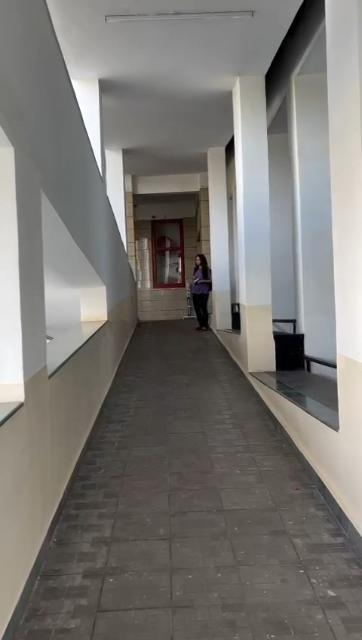floor: (14, 320, 362, 638)
moving-obj: (179, 260, 226, 342)
wall: (1, 289, 144, 639), (41, 2, 108, 285), (0, 0, 44, 394), (331, 3, 362, 512), (233, 79, 273, 377), (109, 146, 138, 337), (211, 146, 232, 330), (137, 288, 183, 320), (184, 214, 210, 252), (138, 220, 150, 290)
